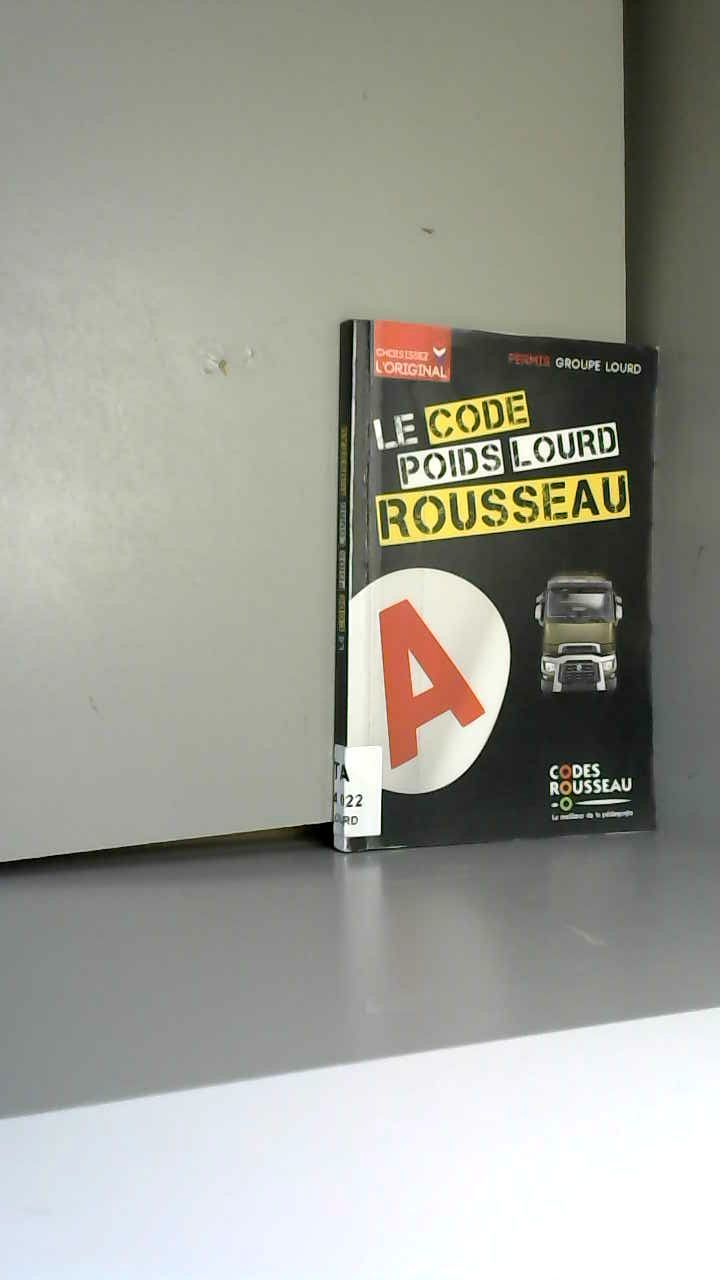book: (310, 290, 720, 892)
